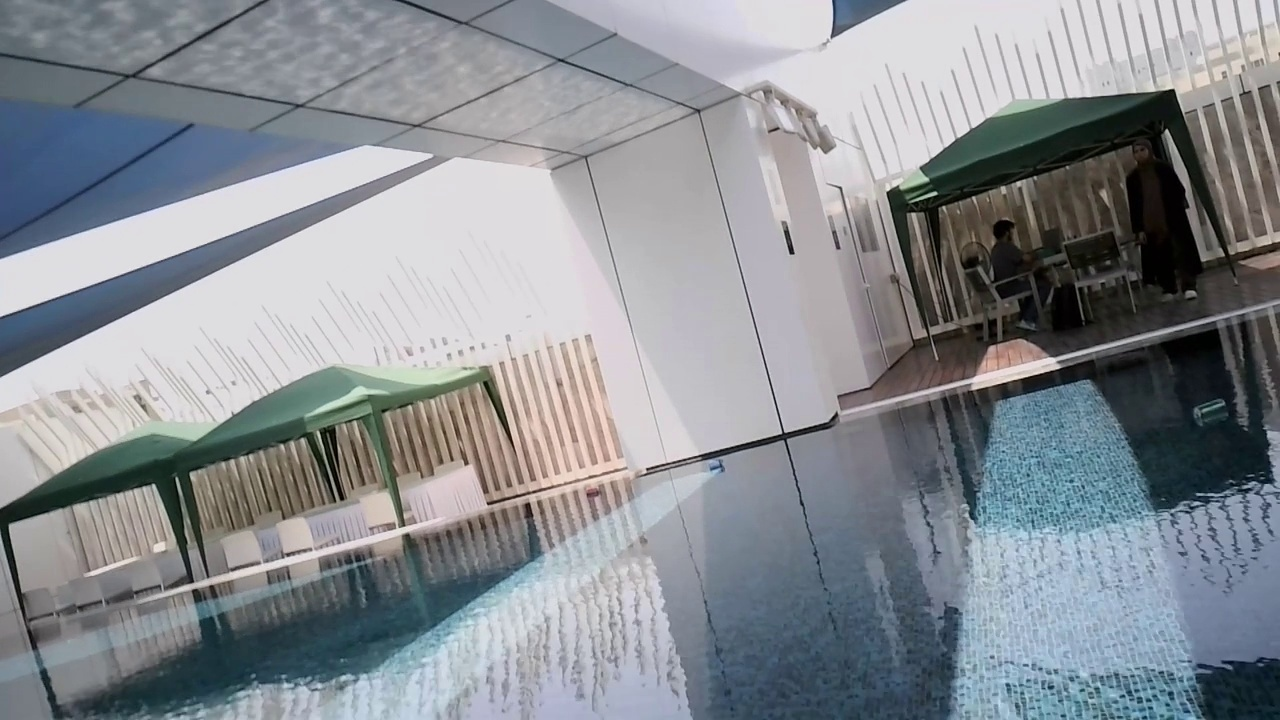debris: (1182, 390, 1232, 432), (705, 458, 726, 473), (582, 484, 602, 497)
